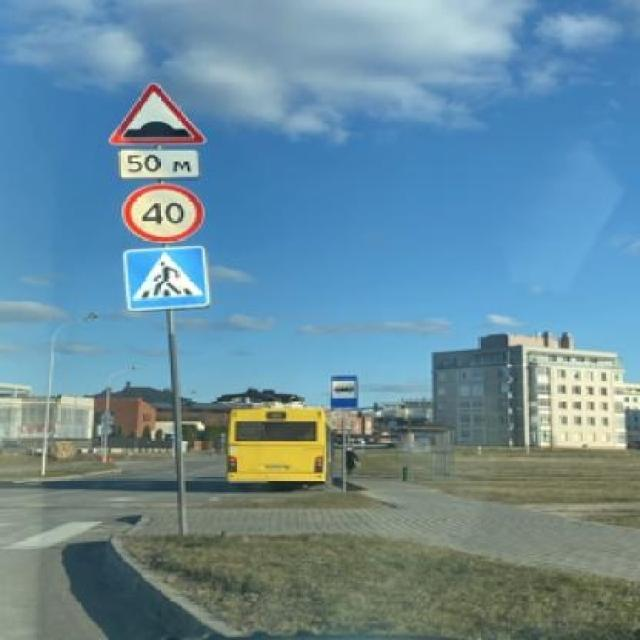forb_speed_over_40: (123, 186, 205, 243)
